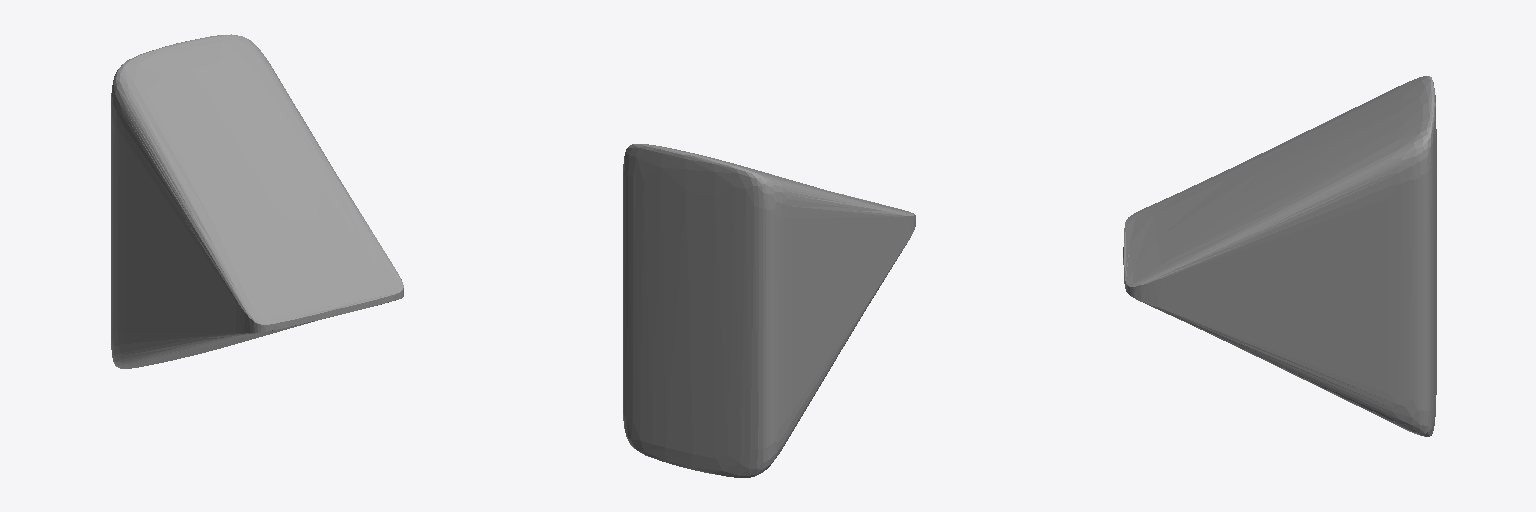
File: Play.obj
The picture shows the model from 3 angles: view 1: azimuth 30°, elevation 25°; view 2: azimuth 150°, elevation 25°; view 3: azimuth 270°, elevation 25°; orthographic projection.
Parts seen in each view (by area): view 1: Cube; view 2: Cube; view 3: Cube.
Boxes of the visible parts, x1,y1,x2,y2 form: Cube: [111, 34, 403, 368]; Cube: [623, 144, 915, 477]; Cube: [1123, 76, 1436, 436].
Bounding box in the file's own units: 1 × 1.94 × 1.75.